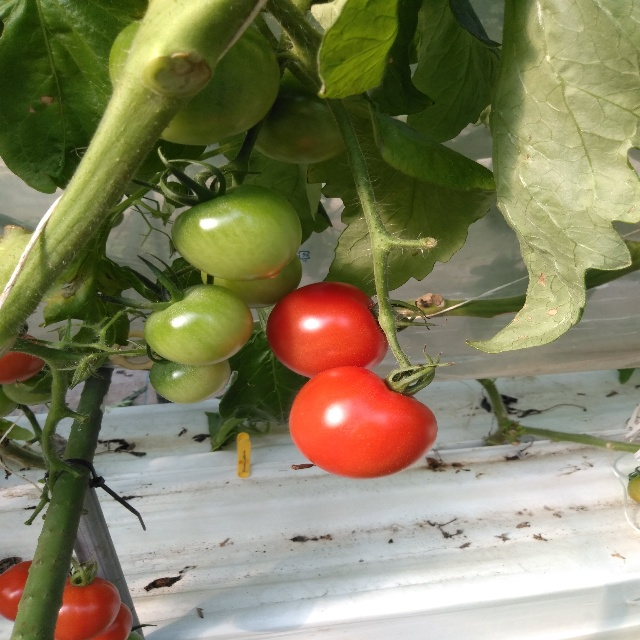l_fully_ripened: (290, 367, 438, 478), (266, 282, 389, 377), (54, 576, 120, 640), (1, 560, 33, 622), (93, 601, 134, 639)
l_green: (109, 10, 279, 145), (171, 185, 302, 282), (246, 63, 348, 165), (145, 285, 255, 365), (201, 255, 303, 308), (149, 359, 231, 403)
